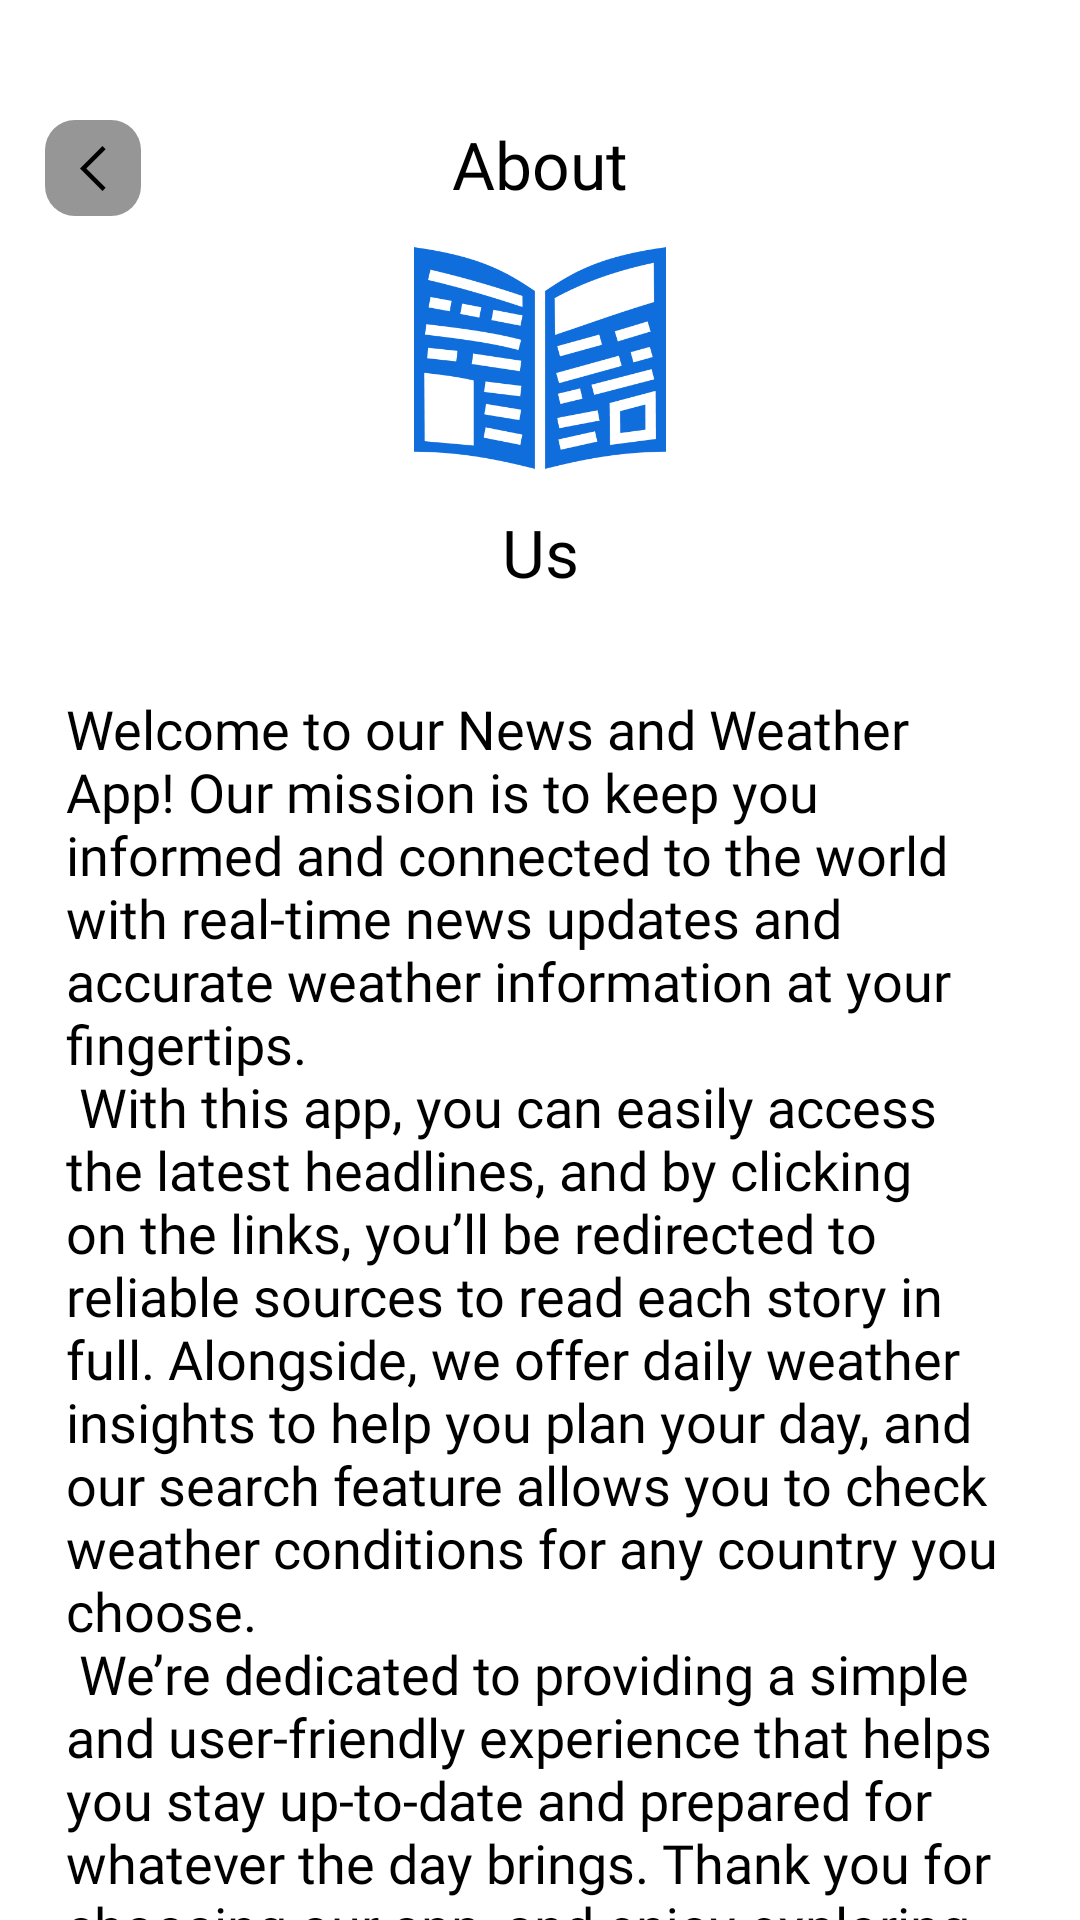

Screen size 1080 × 1920. Icon name, then its box in pixels as (x1,y1,x2,y2):
back detail: (45,120,141,216)
